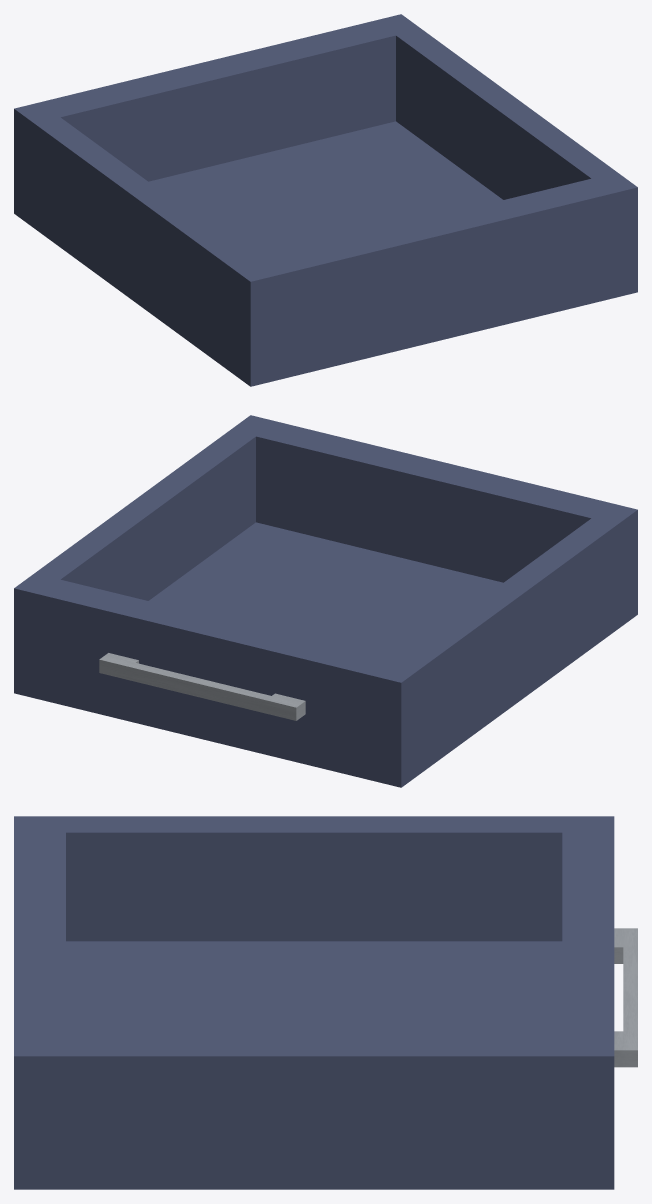
Rendered from cajon.obj.
3 renders of one model, top to bottom at view 1: azimuth 30°, elevation 25°; view 2: azimuth 150°, elevation 25°; view 3: azimuth 270°, elevation 25°, orthographic. The views are drawn at different scales.
Visible parts, largest first — view 1: polySurface1206; view 2: polySurface1206; view 3: polySurface1206.
Part boxes in pixels (box(x1,y1,x2,y2)): polySurface1206: box(14, 14, 637, 386); polySurface1206: box(14, 415, 637, 787); polySurface1206: box(14, 816, 637, 1189).
Bounding box in the file's own units: 0.6242 × 0.1617 × 0.6863.
Materials: 2 (2 with a texture image).
